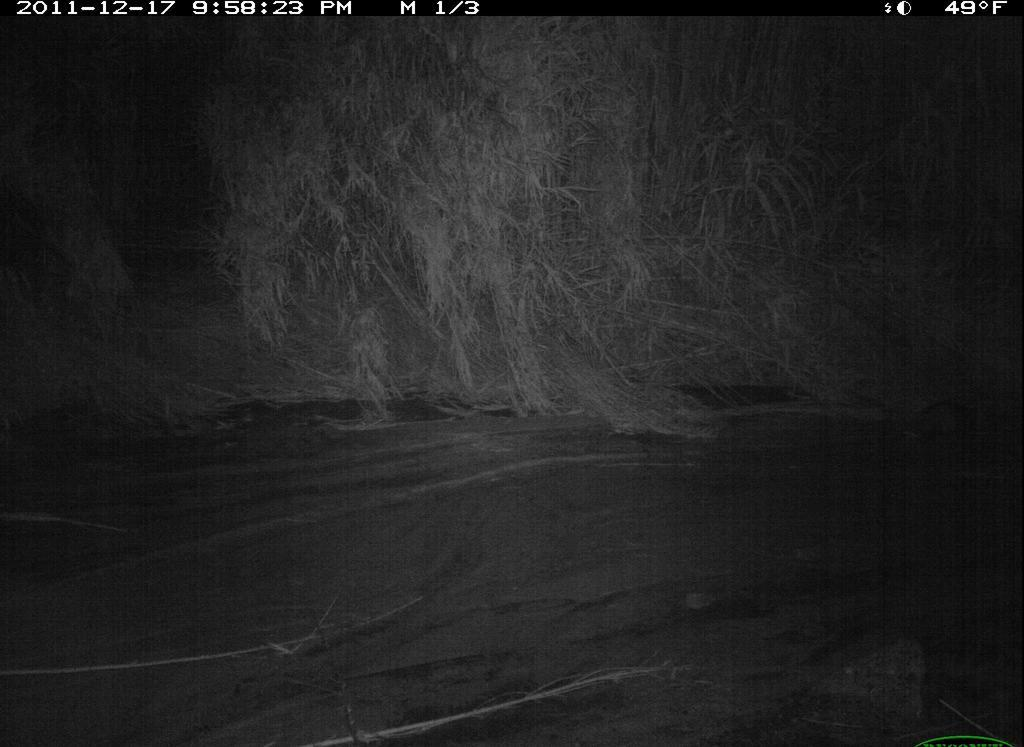opossum: (902, 395, 991, 447)
